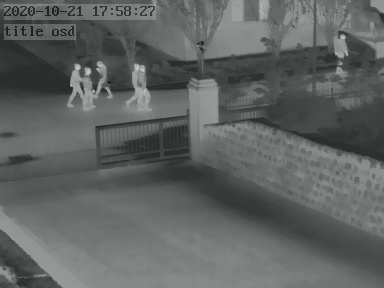person: (130, 63, 149, 108), (97, 58, 114, 103), (66, 60, 82, 107), (82, 61, 96, 109), (333, 35, 347, 71)
